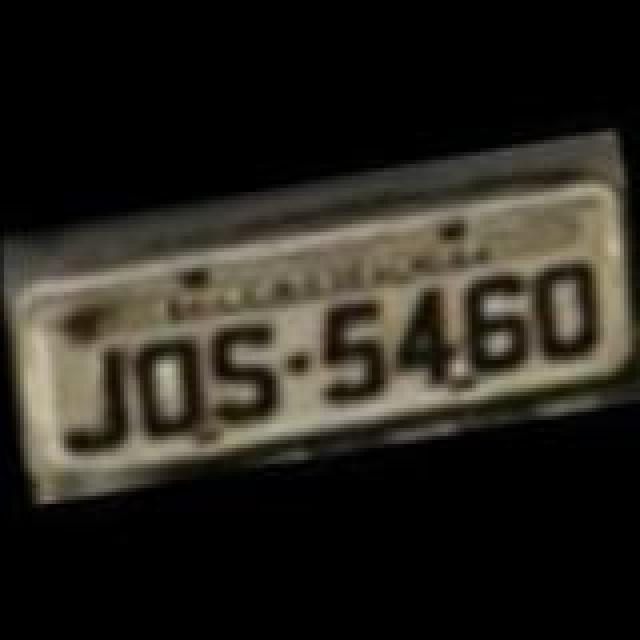4: (388, 276, 464, 396)
5: (312, 288, 392, 408)
6: (454, 264, 534, 384)
J: (44, 338, 140, 458)
O: (524, 256, 608, 372), (126, 332, 210, 444)
S: (202, 316, 286, 428)
